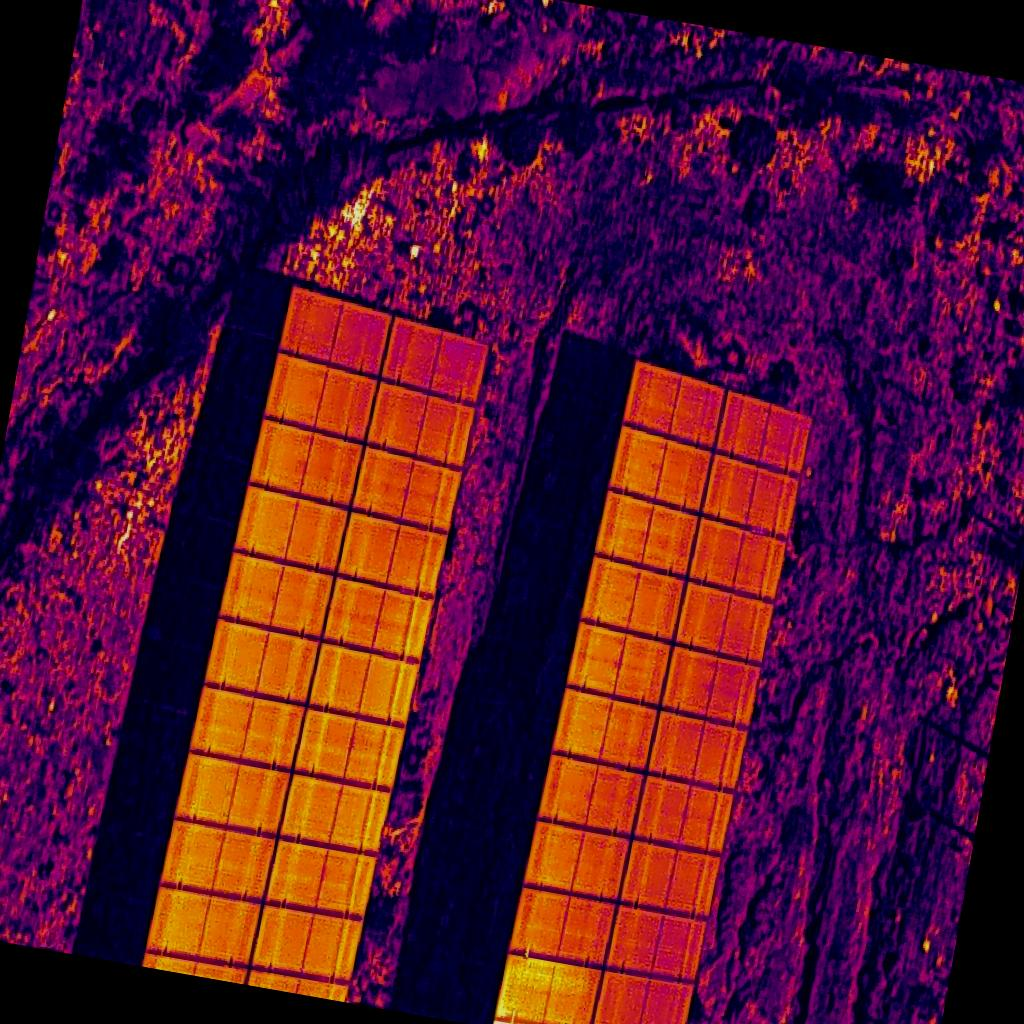panel: (237, 486, 350, 573), (160, 821, 277, 903), (370, 381, 475, 471), (610, 427, 712, 514), (293, 711, 403, 791)
